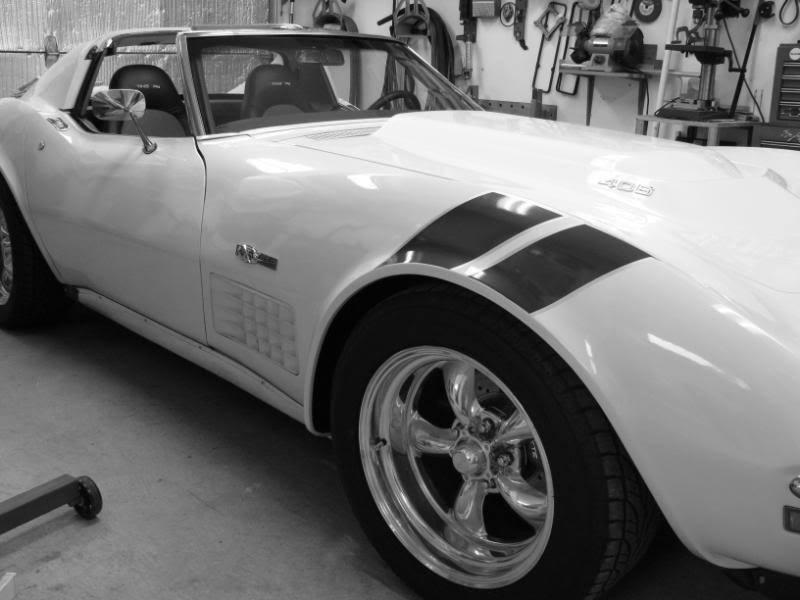car: (1, 27, 799, 600)
